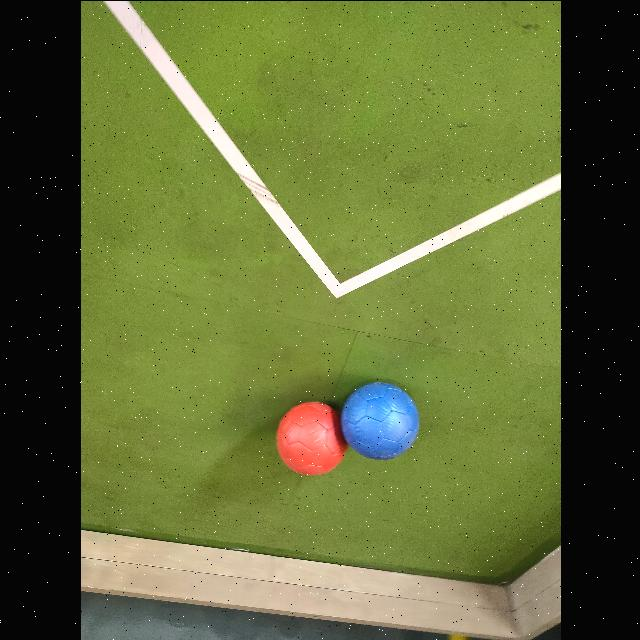B: (340, 383, 418, 460)
R: (275, 401, 345, 474)
